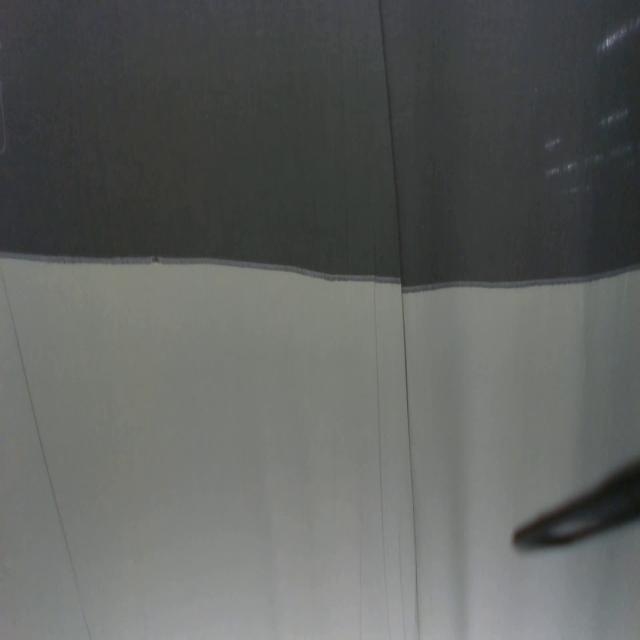crease: (0, 258, 92, 637), (374, 0, 425, 636), (370, 289, 395, 635)
